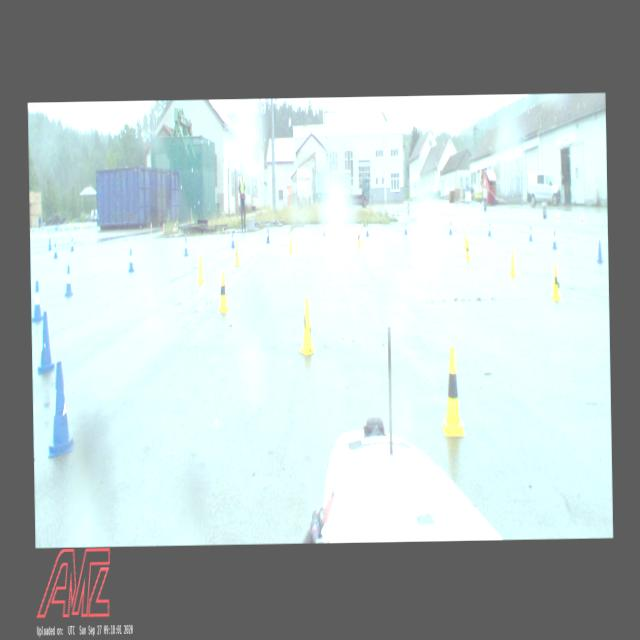blue_cone: (45, 362, 75, 457), (36, 312, 54, 373), (30, 280, 42, 321), (64, 264, 73, 296), (128, 248, 134, 272), (596, 240, 602, 262), (230, 230, 236, 247), (183, 237, 188, 256), (552, 231, 556, 249), (403, 221, 408, 234), (528, 225, 532, 241), (266, 228, 270, 244), (70, 237, 74, 251), (487, 222, 491, 236), (448, 221, 452, 234), (53, 242, 56, 257), (322, 222, 325, 235), (48, 238, 51, 250), (366, 223, 368, 236)
orange_cone: (580, 212, 582, 222), (556, 211, 558, 220), (162, 222, 165, 228), (62, 226, 64, 234), (44, 228, 46, 236), (174, 222, 176, 230), (150, 222, 152, 229)
yellow_cone: (440, 346, 465, 436), (298, 296, 314, 354), (217, 271, 229, 312), (550, 263, 560, 299), (196, 252, 204, 282), (508, 248, 516, 275), (234, 242, 240, 266), (464, 238, 470, 262), (288, 234, 292, 252), (418, 228, 422, 242), (357, 230, 360, 246), (464, 230, 466, 248)
